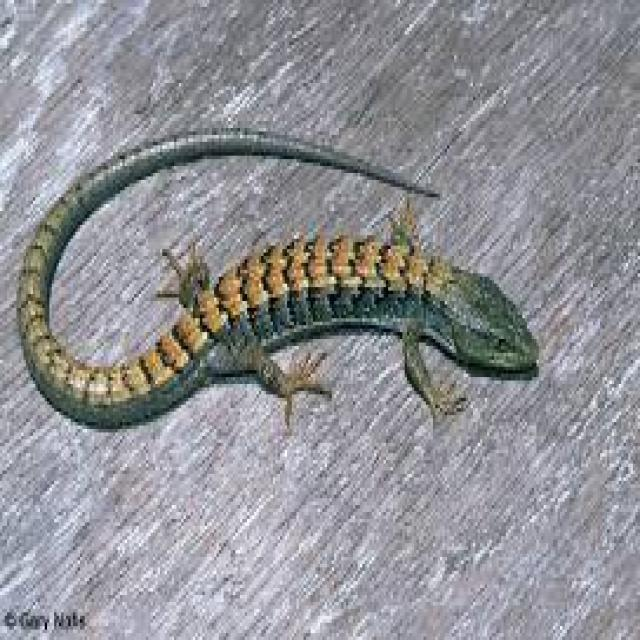Lizard: (14, 123, 544, 453)
